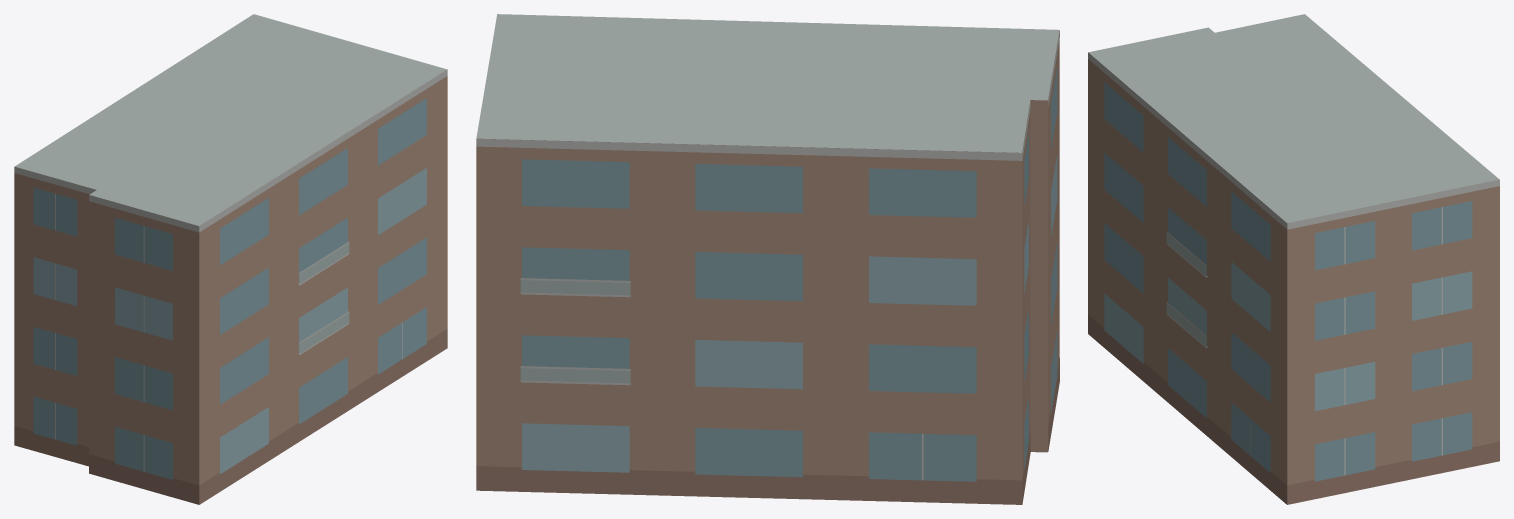
Rendered from survey-upis-32524413.glb.
3 renders of one model, left to right at view 1: azimuth 30°, elevation 25°; view 2: azimuth 150°, elevation 25°; view 3: azimuth 270°, elevation 25°, orthographic. The views are drawn at different scales.
Visible parts, largest first — view 1: survey-upis-32524413.tmp; view 2: survey-upis-32524413.tmp; view 3: survey-upis-32524413.tmp.
Boxes of the visible parts, x1,y1,x2,y2 form: survey-upis-32524413.tmp: (14,14,447,504); survey-upis-32524413.tmp: (476,14,1059,504); survey-upis-32524413.tmp: (1088,14,1499,504).
Size of the model in its own units: 17.06 by 10.7 by 14.19.
